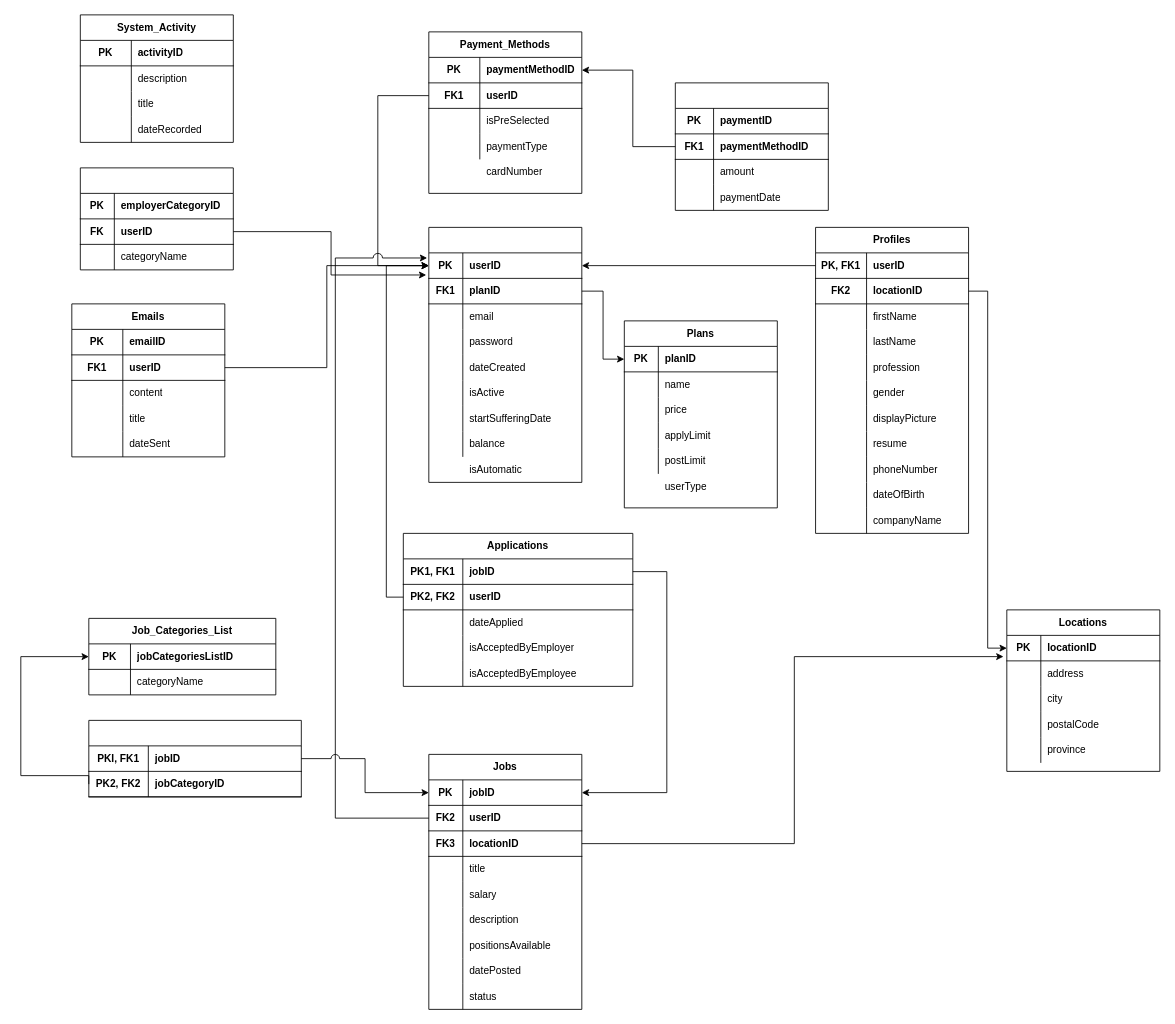
Image size: 1175x1024. Some labels were removed from this diagram. The shapes that lost their labels are listed below. From the top down, each one's box as (x1, y1, x2, y2) in pixels, then its label:
(674, 82, 828, 210): Payments
(79, 167, 233, 270): Employer_Categories
(428, 227, 582, 482): Users
(88, 720, 301, 797): Job_Categories
